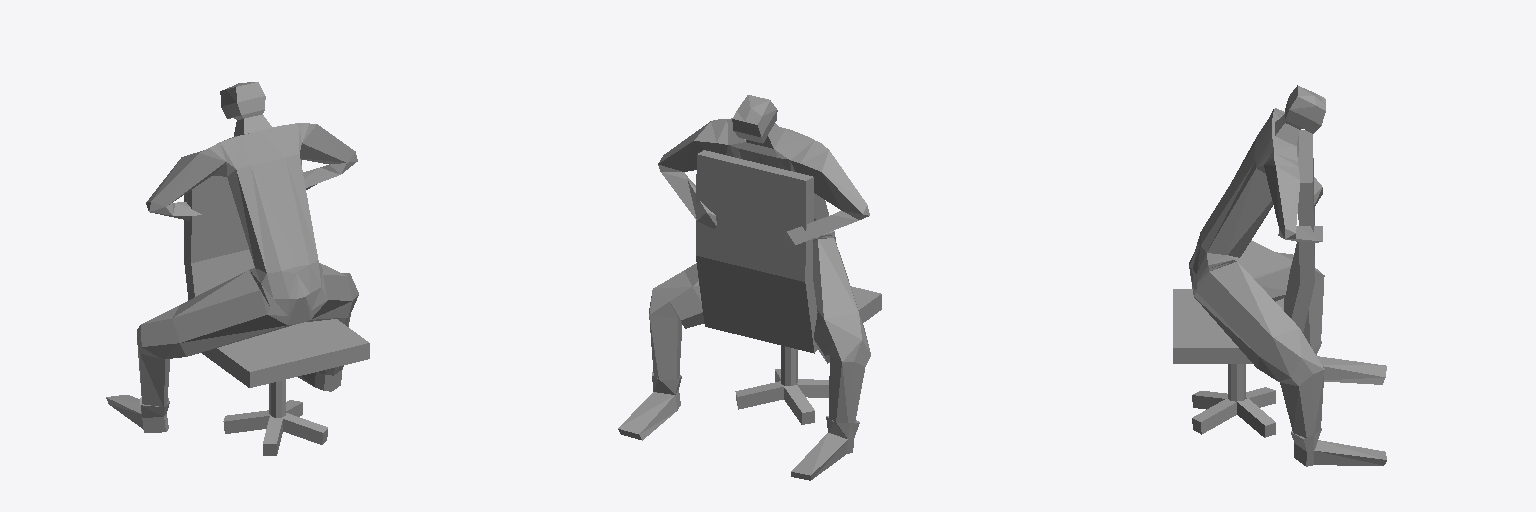
The model's file is player.obj.
3 views of the same model, side by side, from view 1: azimuth 30°, elevation 25°; view 2: azimuth 150°, elevation 25°; view 3: azimuth 270°, elevation 25° (orthographic).
Visible parts, largest first — view 1: Cube.001; view 2: Cube.001; view 3: Cube.001.
Part boxes in pixels (left/top/right/bottom): Cube.001: left=106, top=82, right=369, bottom=455; Cube.001: left=618, top=95, right=881, bottom=480; Cube.001: left=1173, top=85, right=1386, bottom=466.
Size of the model in its own units: 4.53 by 6.57 by 3.86.